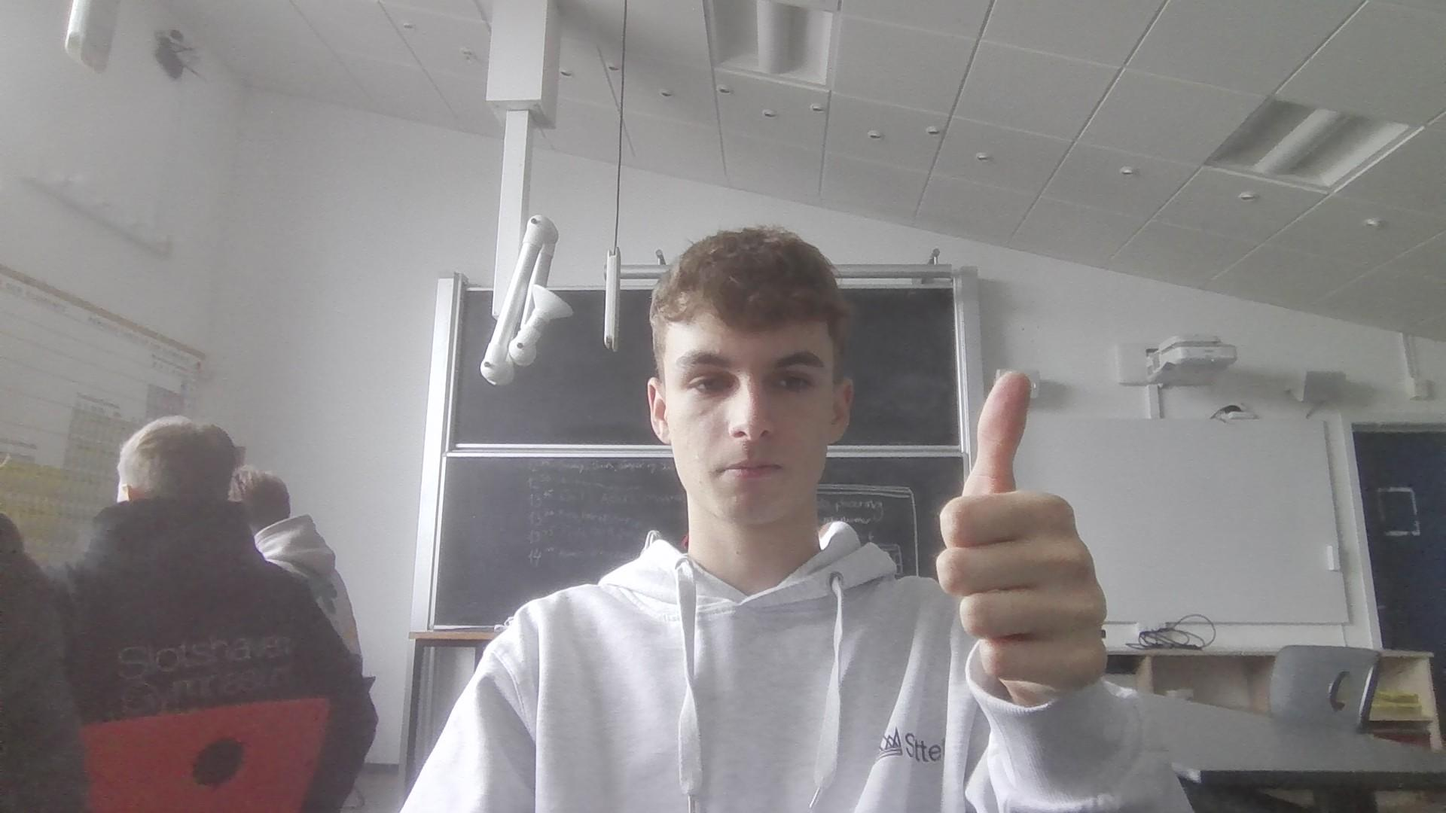thumbs up: (928, 362, 1118, 716)
